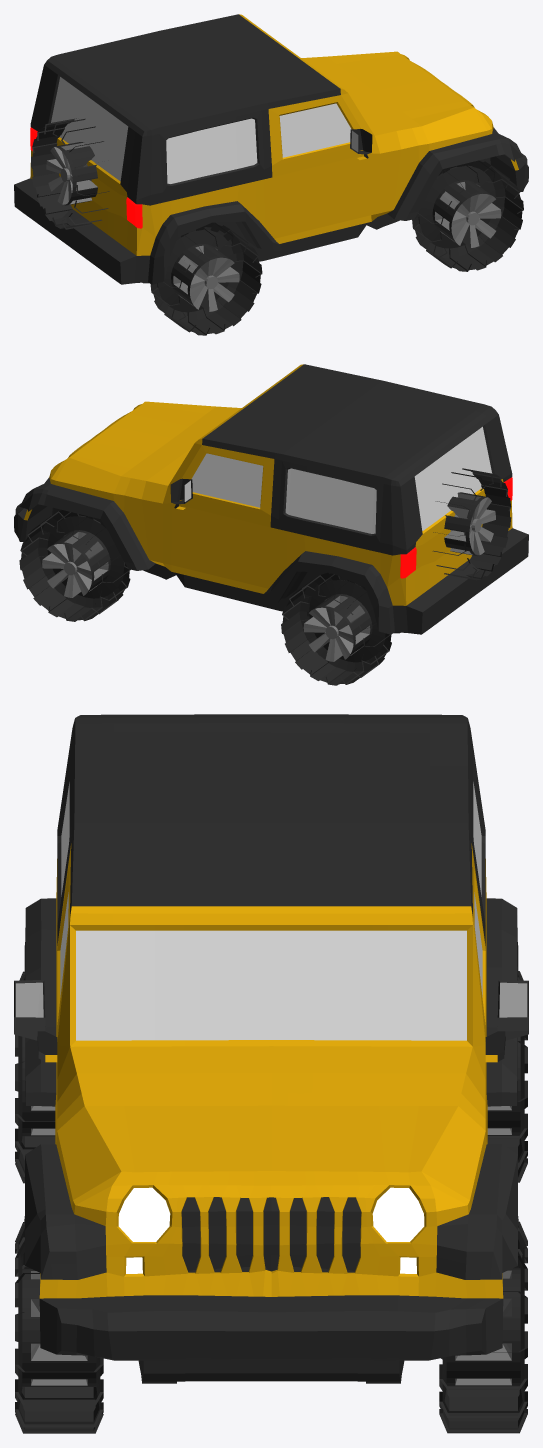
The model's file is jeep_wrangler.glb.
3 renders of one model, top to bottom at view 1: azimuth 30°, elevation 25°; view 2: azimuth 150°, elevation 25°; view 3: azimuth 270°, elevation 25°, orthographic. The views are drawn at different scales.
Visible parts, largest first — view 1: Car, Wheel.001, Wheel, Wheel.004; view 2: Car, Wheel.002, Wheel.003, Wheel.004; view 3: Car, Wheel.001, Wheel.002, Wheel, Wheel.003.
Boxes of the visible parts, x1,y1,x2,y2 form: Car: (14, 14, 528, 284); Wheel.001: (412, 160, 523, 271); Wheel: (150, 222, 262, 335); Wheel.004: (31, 118, 109, 229); Car: (14, 364, 528, 634); Wheel.002: (19, 510, 130, 621); Wheel.003: (281, 572, 391, 685); Wheel.004: (432, 468, 511, 580); Car: (14, 714, 528, 1383); Wheel.001: (15, 1222, 103, 1433); Wheel.002: (439, 1221, 527, 1433); Wheel: (15, 971, 55, 1183); Wheel.003: (487, 971, 527, 1182).
Bounding box in the file's own units: 4.14 × 1.91 × 2.18.
